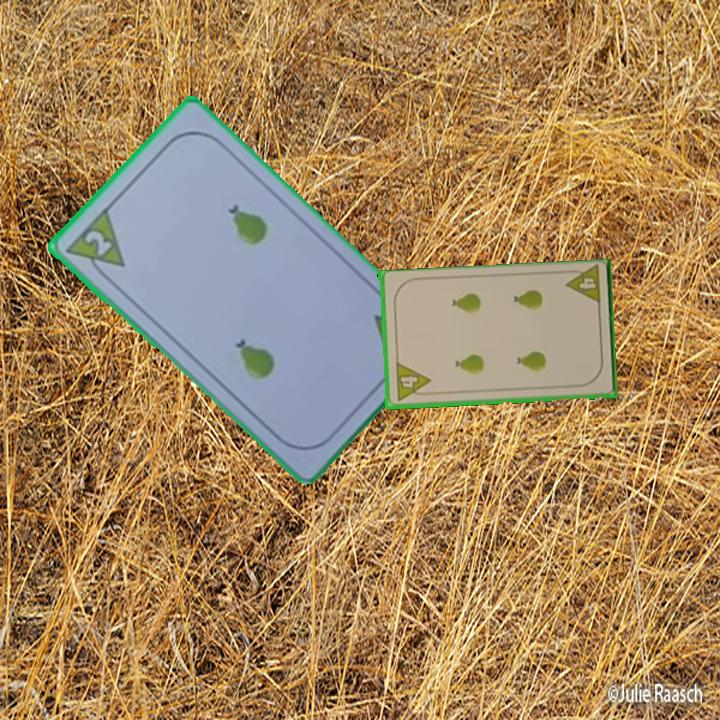2p: (60, 204, 128, 285)
4p: (562, 264, 604, 308), (392, 360, 433, 404)
